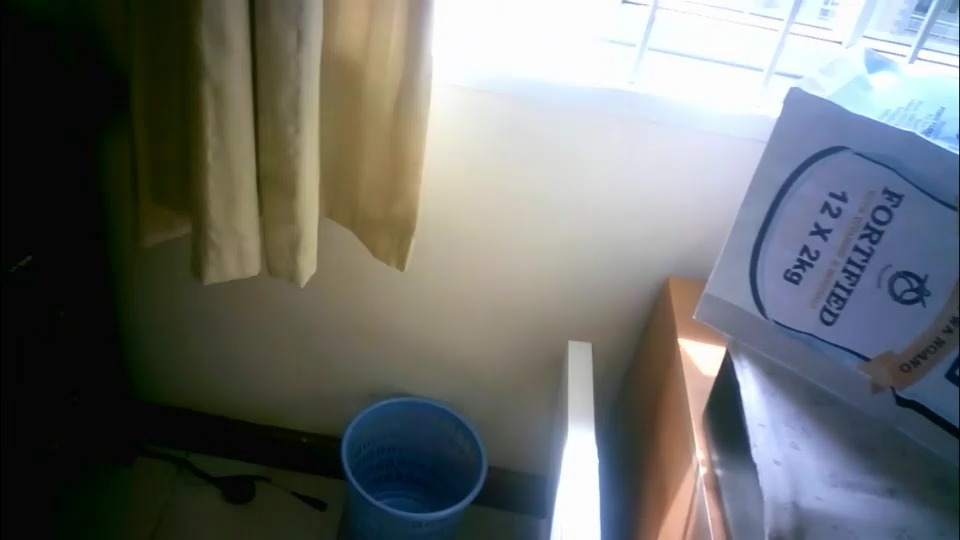wheat_flour_blue_label: (691, 44, 956, 468)
